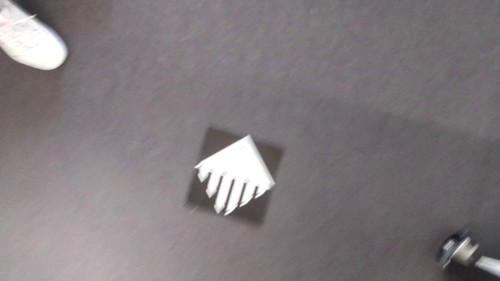misgoods: (194, 138, 281, 216)
